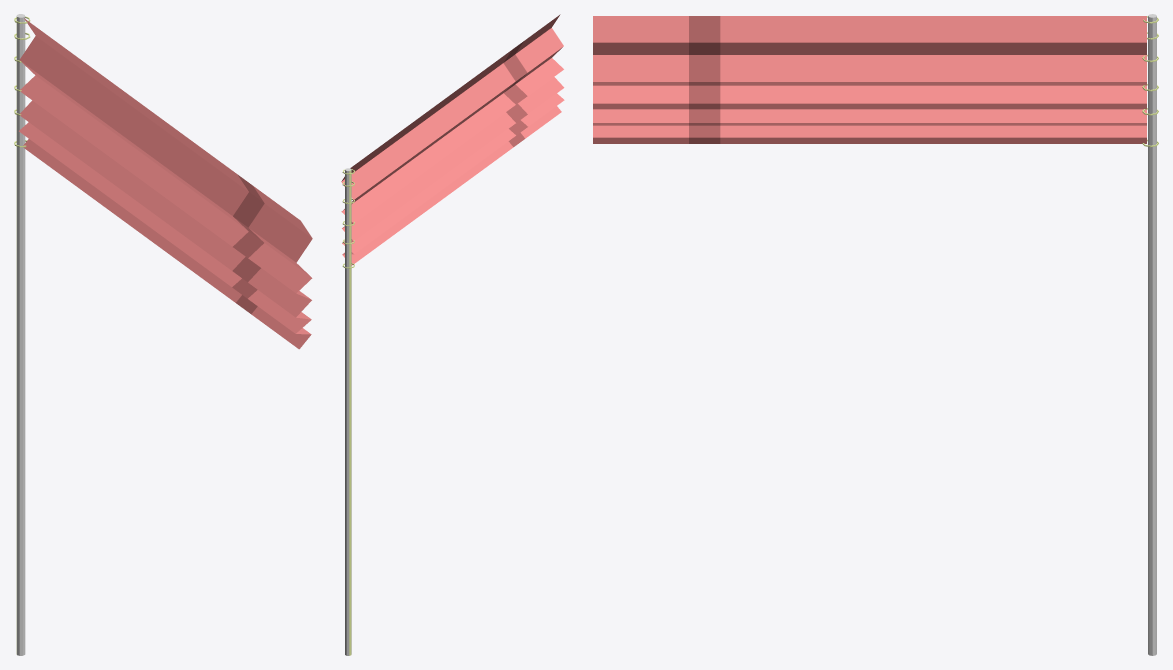
The picture shows the model from 3 angles, left to right: view 1: azimuth 30°, elevation 25°; view 2: azimuth 150°, elevation 25°; view 3: azimuth 270°, elevation 25°; orthographic projection. The views are drawn at different scales.
Visible parts, largest first — view 1: Circle.001; view 2: Circle.001; view 3: Circle.001.
Boxes of the visible parts, x1,y1,x2,y2 form: Circle.001: (14,14,312,655); Circle.001: (341,14,564,655); Circle.001: (593,14,1158,655).
Bounding box in the file's own units: 11.17 × 360 × 289.
